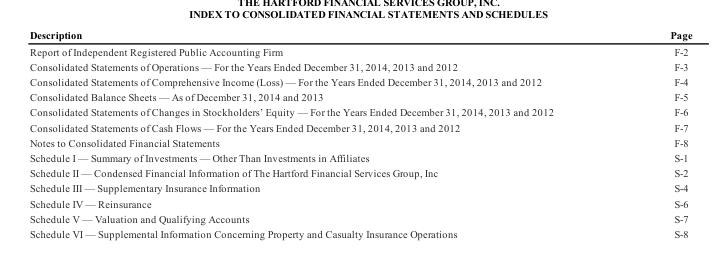table: (29, 29, 691, 239)
table column: (29, 29, 611, 239), (611, 29, 691, 239)
table column header: (29, 29, 691, 42)
table row: (29, 42, 691, 58), (29, 73, 691, 89), (29, 149, 691, 165), (29, 58, 691, 73), (29, 89, 691, 104), (29, 104, 691, 119), (29, 119, 691, 134), (29, 134, 691, 149), (29, 165, 691, 180), (29, 180, 691, 195), (29, 195, 691, 210), (29, 210, 691, 225), (29, 225, 691, 239), (29, 29, 691, 42)
